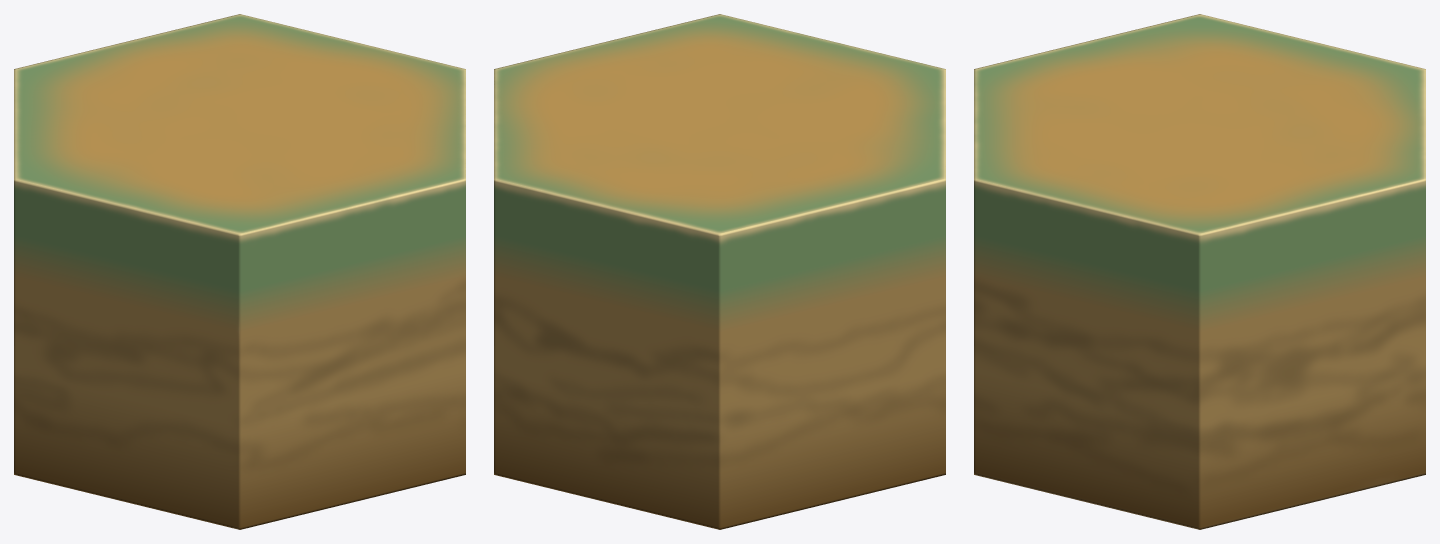
The model's file is Land1 Alternate.fbx.
3 views of the same model, side by side, from view 1: azimuth 30°, elevation 25°; view 2: azimuth 150°, elevation 25°; view 3: azimuth 270°, elevation 25° (orthographic).
Visible parts, largest first — view 1: Land_Grass; view 2: Land_Grass; view 3: Land_Grass.
Boxes of the visible parts, left/top/right/bottom form: Land_Grass: left=14, top=14, right=465, bottom=529; Land_Grass: left=494, top=14, right=945, bottom=529; Land_Grass: left=974, top=14, right=1425, bottom=529.
Bounding box in the file's own units: 1600 × 1000 × 1386.
